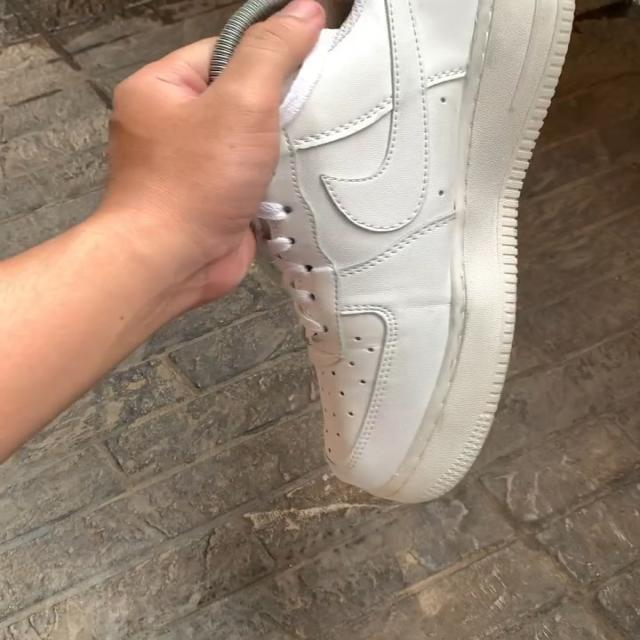nike fake air force: (215, 0, 574, 506)
